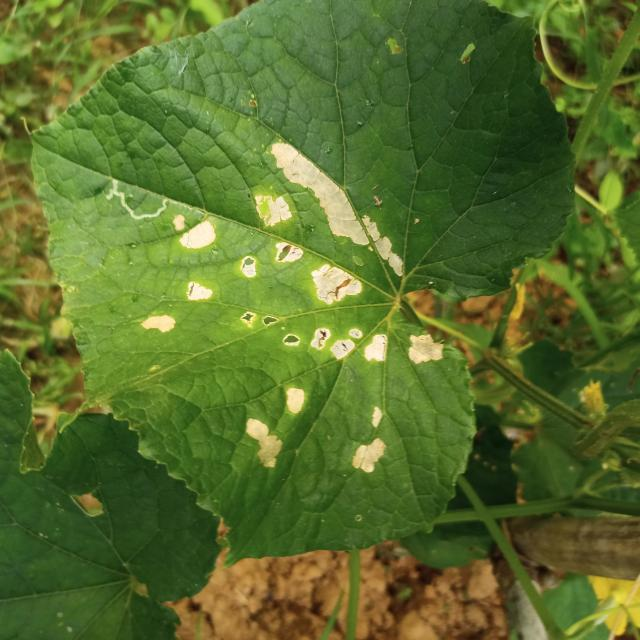disease_cucumber: (235, 141, 450, 372), (141, 216, 219, 334), (243, 381, 309, 473), (352, 404, 390, 475)
